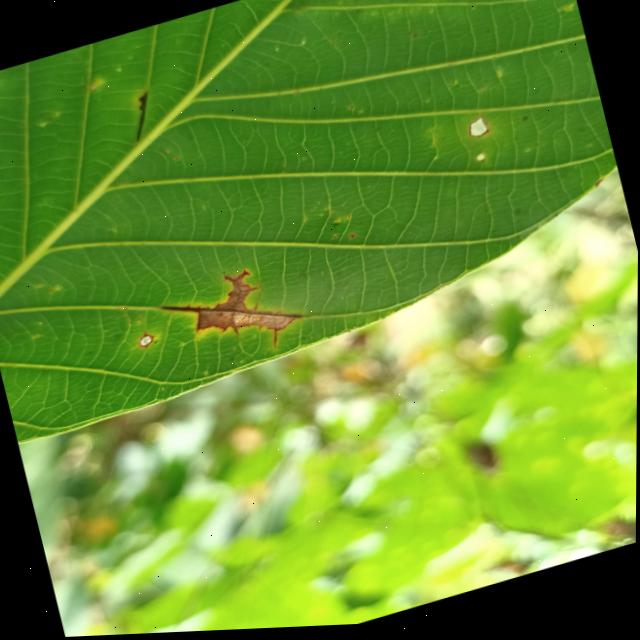Corynespora: (126, 91, 158, 142), (161, 296, 204, 323), (269, 328, 283, 352)
Leaf-Blight: (186, 258, 298, 355)
